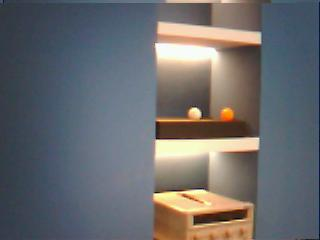oball: (221, 107, 233, 119)
